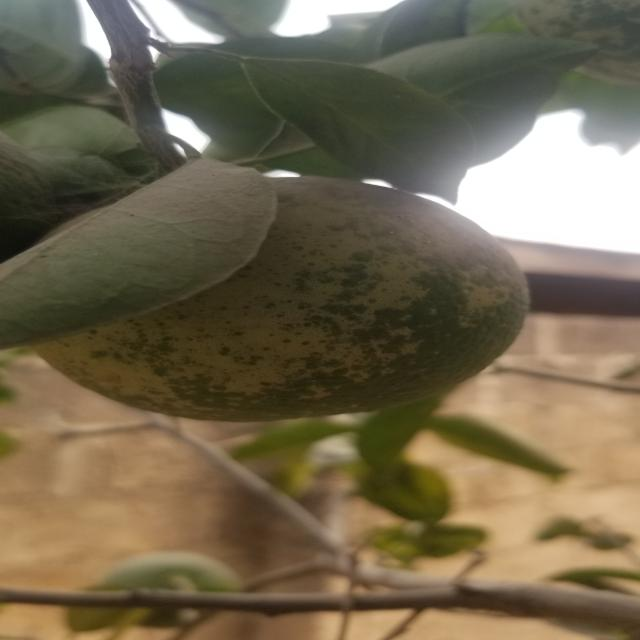Unripe: (26, 181, 532, 422)
